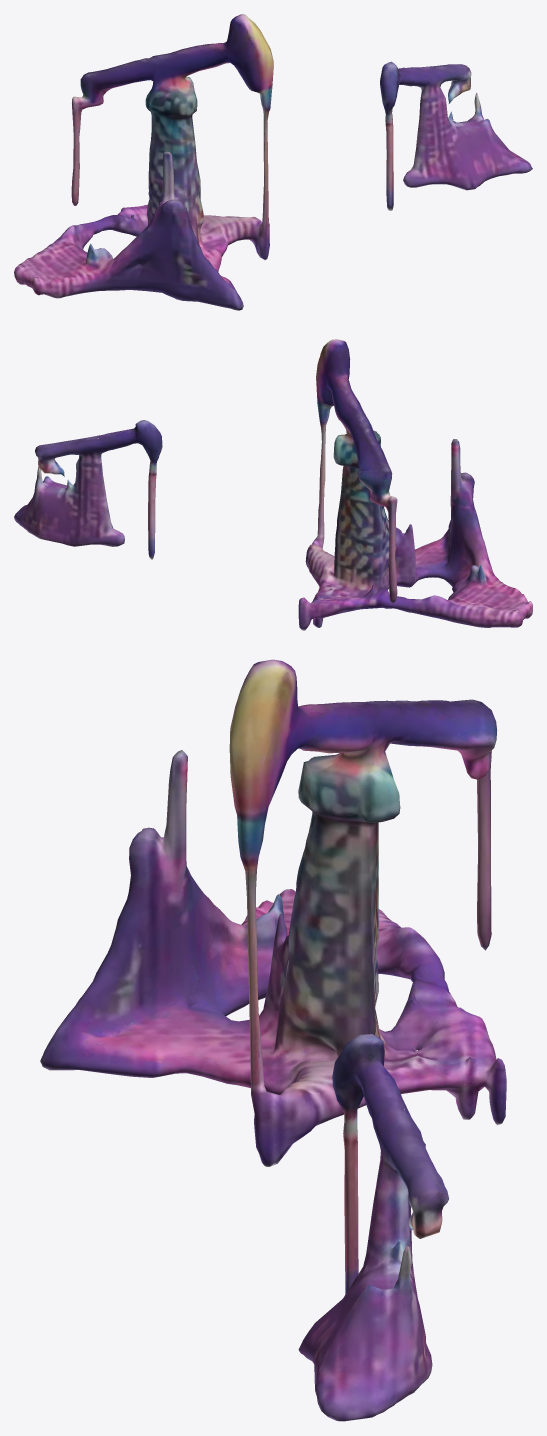
Rendered from midland-pulse.glb.
3 views of the same model, one above another, from view 1: azimuth 30°, elevation 25°; view 2: azimuth 150°, elevation 25°; view 3: azimuth 270°, elevation 25° (orthographic). The views are drawn at different scales.
Parts seen in each view (by area): view 1: mesh; view 2: mesh; view 3: mesh.
Boxes of the visible parts, <box> form: mesh: <box>14,14,532,310</box>; mesh: <box>14,339,532,630</box>; mesh: <box>40,659,506,1421</box>.
Bounding box in the file's own units: 1.83 × 0.8512 × 0.7349.
1 material, 1 textured.
